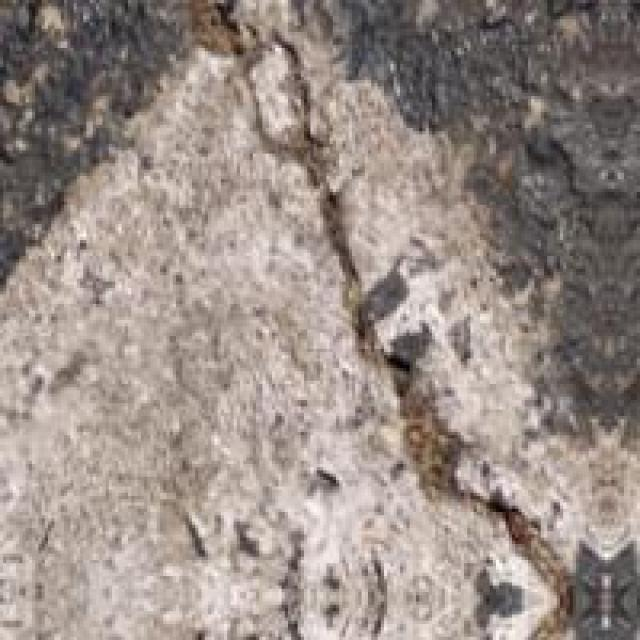crack: (211, 70, 547, 596)
